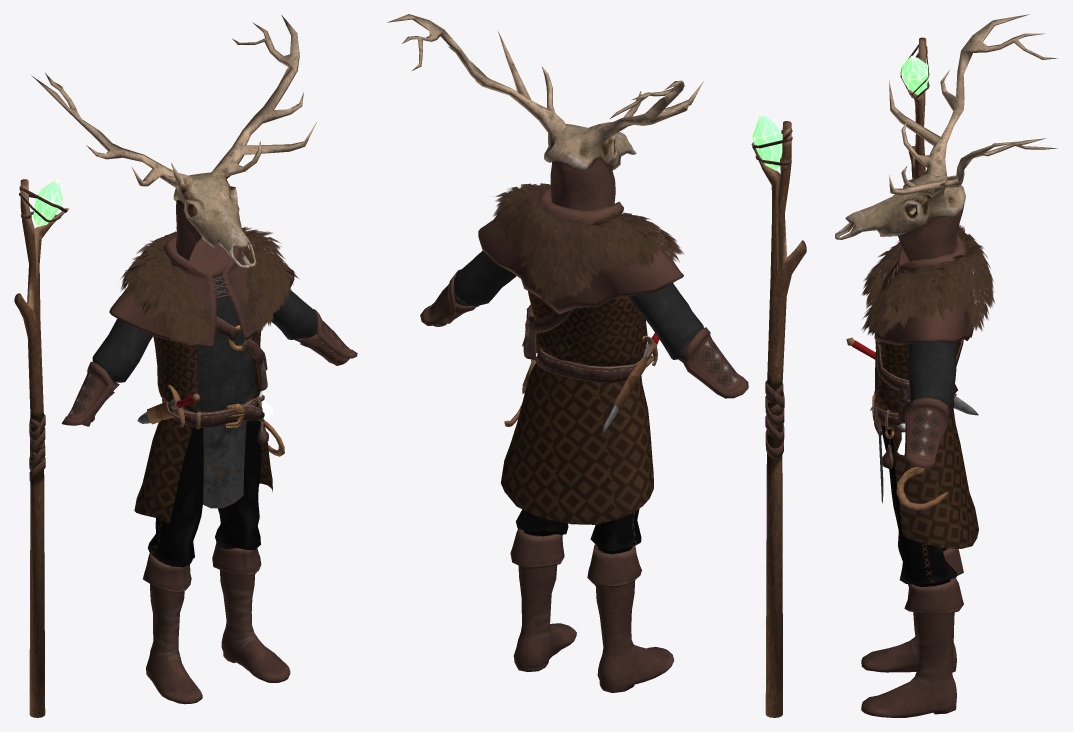
3 renders of one model, left to right at view 1: azimuth 30°, elevation 25°; view 2: azimuth 150°, elevation 25°; view 3: azimuth 270°, elevation 25°, orthographic. The views are drawn at different scales.
Visible parts, largest first — view 1: Druid, Head, Stuff, Fur, Gear; view 2: Druid, Stuff, Fur, Head, Gear; view 3: Druid, Head, Fur, Gear, Stuff.
Part boxes in pixels (left/top/right/bottom): Druid: left=61, top=236, right=357, bottom=704; Head: left=31, top=15, right=316, bottom=268; Stuff: left=14, top=179, right=68, bottom=717; Fur: left=120, top=227, right=298, bottom=346; Gear: left=137, top=316, right=284, bottom=456; Druid: left=420, top=189, right=748, bottom=692; Stuff: left=751, top=113, right=806, bottom=717; Fur: left=491, top=183, right=683, bottom=307; Head: left=387, top=14, right=703, bottom=210; Gear: left=504, top=304, right=659, bottom=433; Druid: left=861, top=236, right=978, bottom=717; Head: left=835, top=14, right=1057, bottom=261; Fur: left=861, top=224, right=994, bottom=337; Gear: left=846, top=337, right=978, bottom=510; Stuff: left=900, top=37, right=929, bottom=178.
Size of the model in its own units: 1305 by 2148 by 712.
5 materials, 5 textured.
